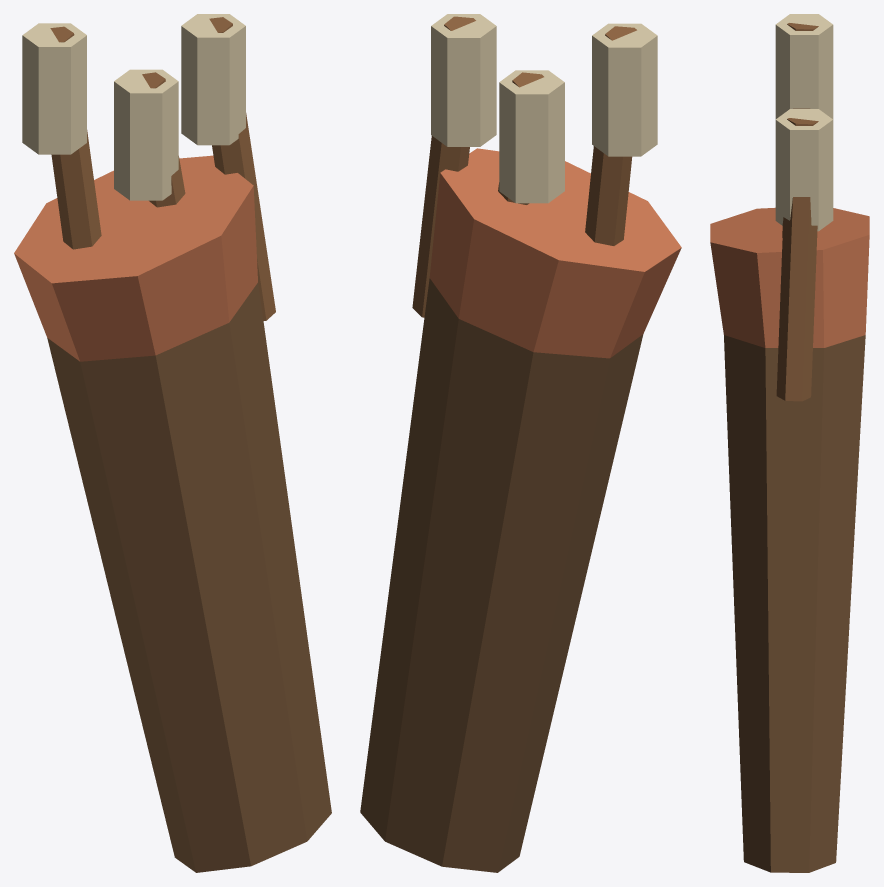
File: quiver.glb
The picture shows the model from 3 angles, left to right: view 1: azimuth 30°, elevation 25°; view 2: azimuth 150°, elevation 25°; view 3: azimuth 270°, elevation 25°; orthographic projection. The views are drawn at different scales.
Parts seen in each view (by area): view 1: quiver; view 2: quiver; view 3: quiver.
Part boxes in pixels (box(x1,y1,x2,y2)): quiver: box(14, 14, 331, 872); quiver: box(360, 14, 681, 872); quiver: box(710, 14, 869, 872).
Size of the model in its own units: 0.3091 by 0.876 by 0.1661.
